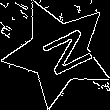N_SW: (26, 23, 90, 82)
